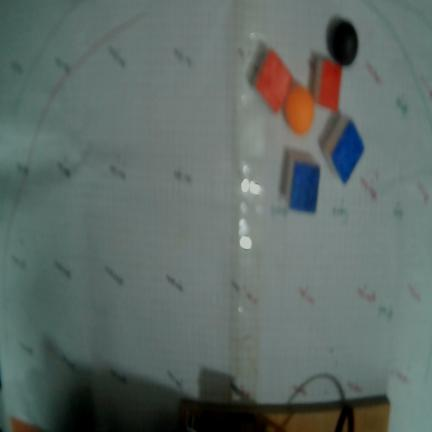circle_blue: (326, 16, 358, 66)
circle_orange: (284, 85, 314, 134)
rectangle_blue: (330, 117, 366, 185)
rectangle_orange: (319, 56, 341, 110)
square_blue: (289, 163, 319, 213)
square_orange: (254, 49, 293, 112)
